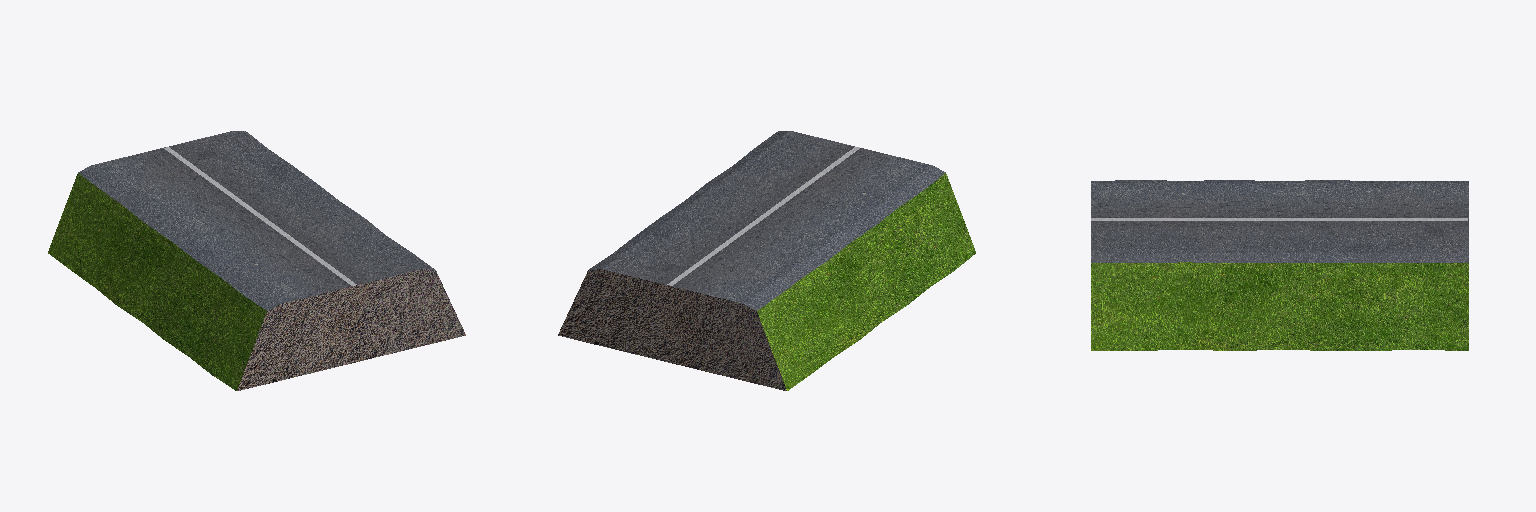
3 renders of one model, left to right at view 1: azimuth 30°, elevation 25°; view 2: azimuth 150°, elevation 25°; view 3: azimuth 270°, elevation 25°, orthographic.
Parts seen in each view (by area): view 1: rural_road; view 2: rural_road; view 3: rural_road.
Part boxes in pixels (bbox=[...]): rural_road: bbox=[48, 131, 465, 390]; rural_road: bbox=[558, 131, 975, 390]; rural_road: bbox=[1091, 180, 1468, 350].
Bounding box in the file's own units: 11.75 × 3.73 × 16.63.
Materials: 1 (1 with a texture image).